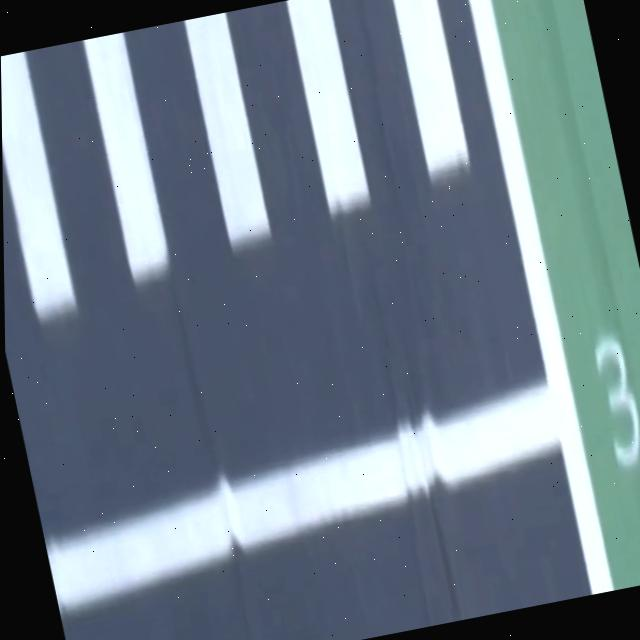right: (468, 0, 614, 595)
